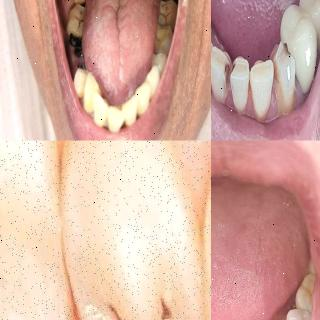cavities: (91, 263, 180, 320), (270, 46, 298, 101), (152, 0, 170, 30), (63, 14, 87, 36), (215, 59, 233, 87), (229, 60, 240, 82)
